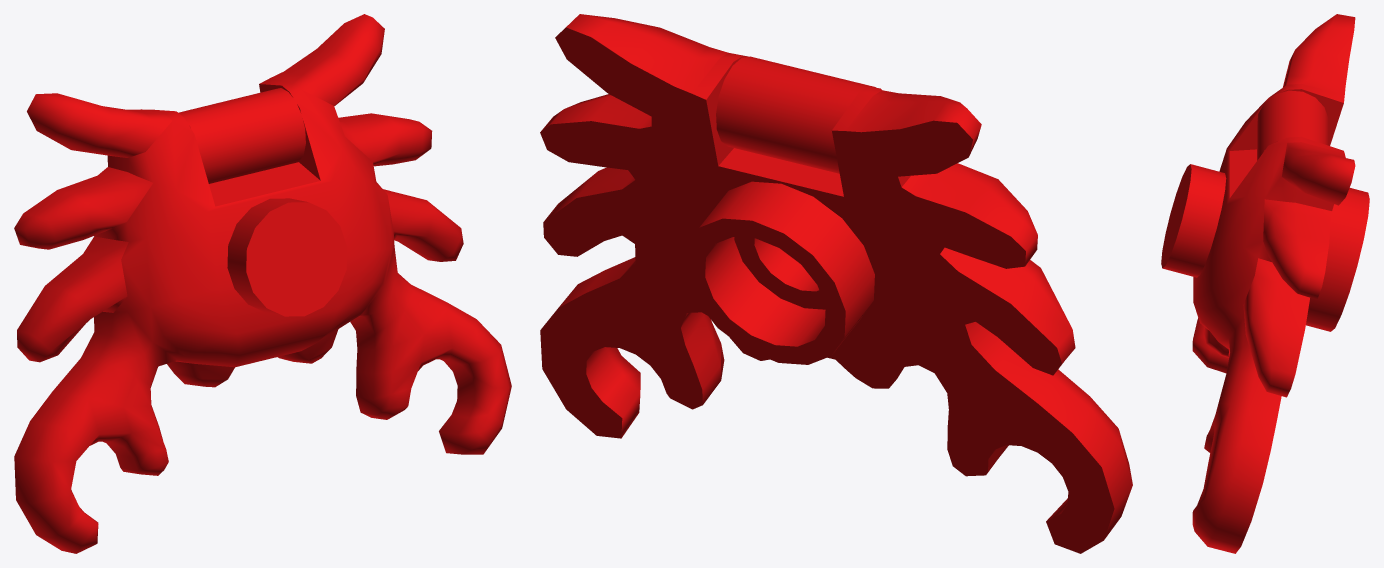
Rendered from crab_33121.glb.
The picture shows the model from 3 angles, left to right: view 1: azimuth 30°, elevation 25°; view 2: azimuth 150°, elevation 25°; view 3: azimuth 270°, elevation 25°; orthographic projection. The views are drawn at different scales.
Visible parts, largest first — view 1: 00001_33121.dat; view 2: 00001_33121.dat; view 3: 00001_33121.dat.
Boxes of the visible parts, left/top/right/bottom form: 00001_33121.dat: left=14, top=14, right=511, bottom=553; 00001_33121.dat: left=540, top=14, right=1132, bottom=553; 00001_33121.dat: left=1161, top=14, right=1369, bottom=553.
Bounding box in the file's own units: 2.28 × 1.83 × 0.9253.
